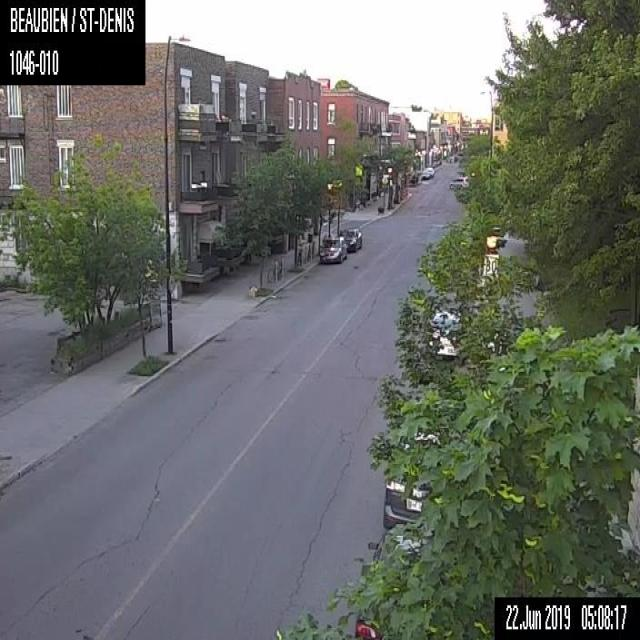vehicle: (356, 528, 424, 637), (427, 287, 462, 363), (382, 484, 432, 532), (318, 235, 347, 262), (340, 227, 361, 252), (448, 173, 468, 191), (419, 169, 428, 179), (426, 166, 434, 177)
